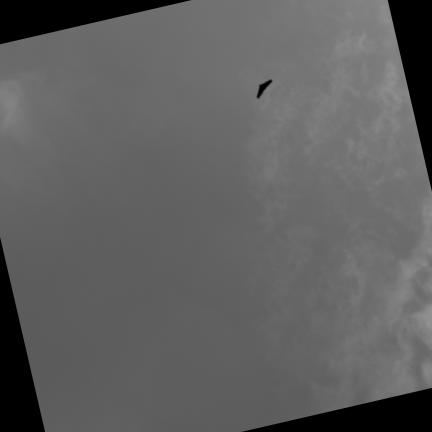Shahed: (257, 81, 271, 99)
